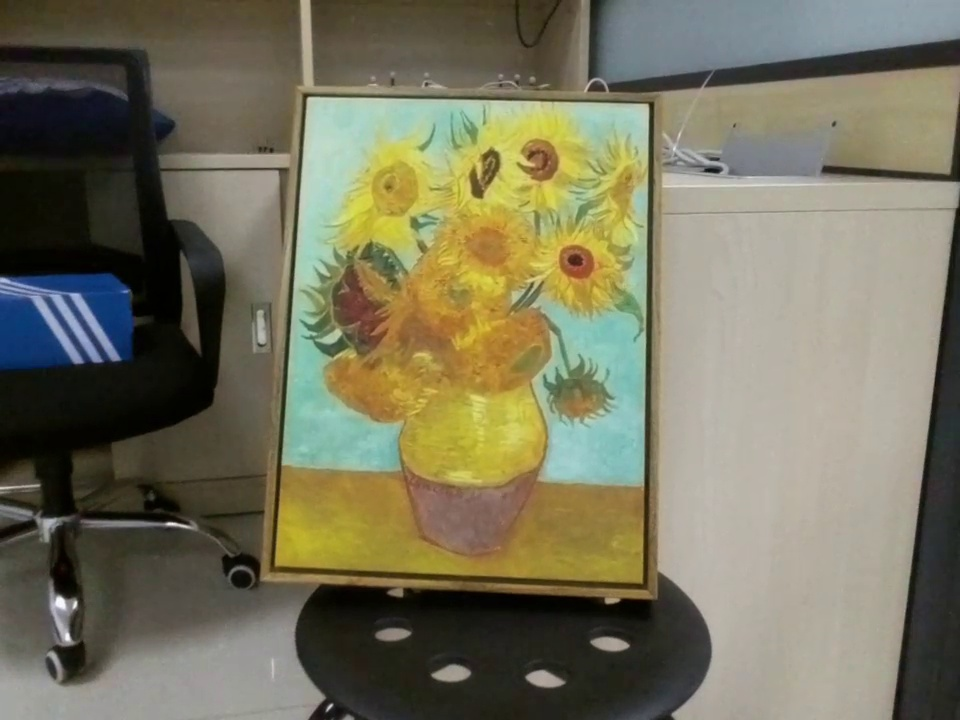painting: (268, 75, 671, 611)
